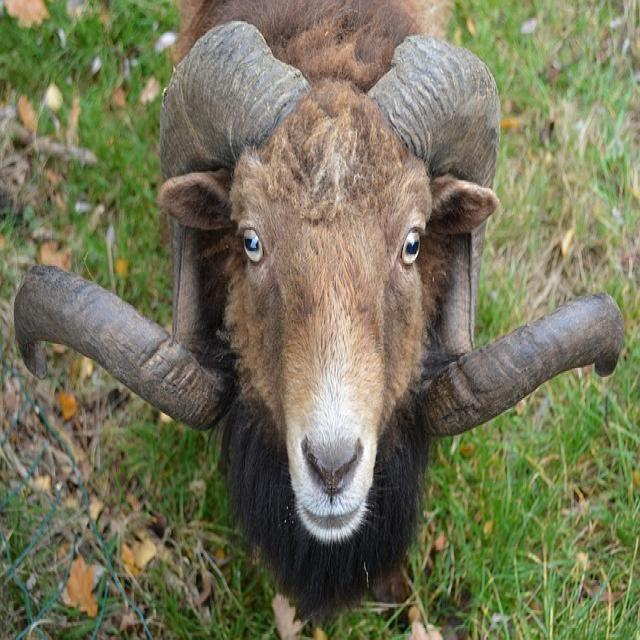goat: (16, 4, 622, 615)
